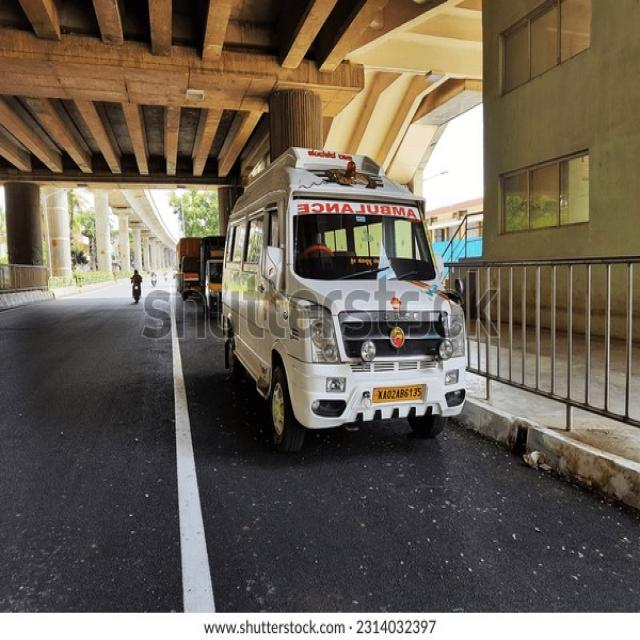ambulance: (220, 148, 474, 446)
